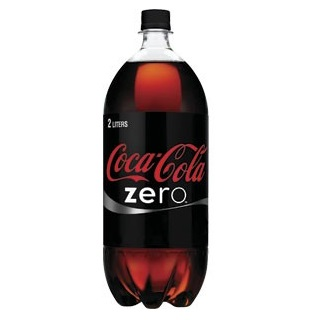coke: (101, 10, 214, 311)
